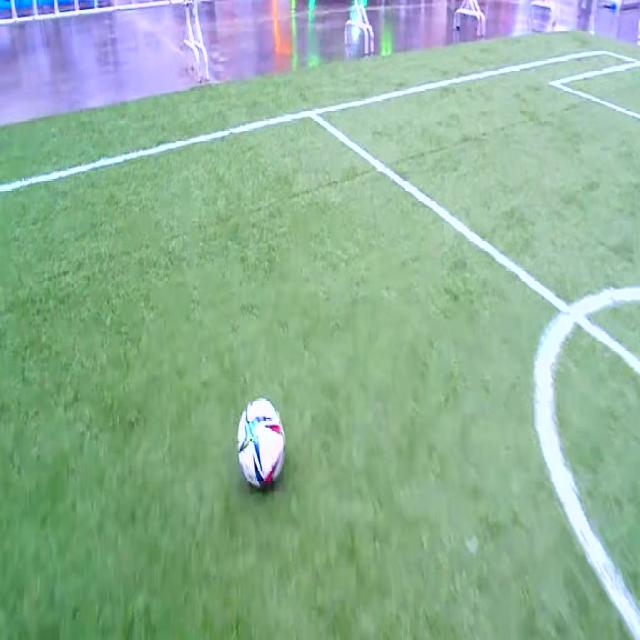ball: (238, 397, 286, 489)
